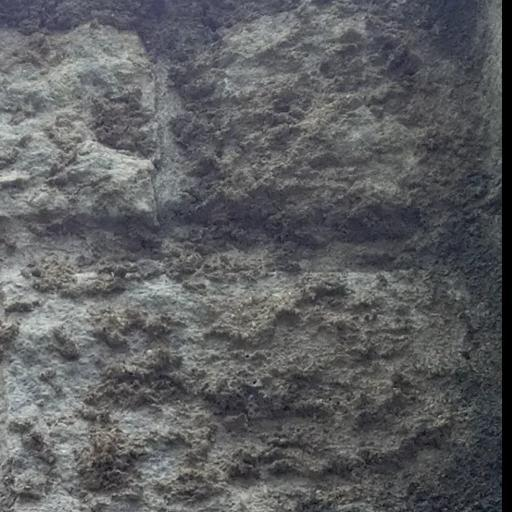stain: (24, 0, 502, 293)
